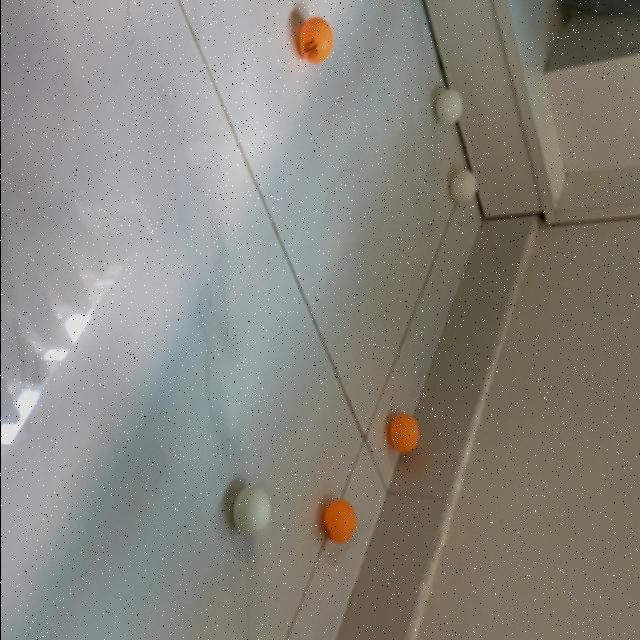ping-pong-ball: (231, 486, 271, 536), (296, 18, 334, 66), (321, 502, 355, 546), (390, 414, 418, 452), (433, 90, 461, 126), (448, 172, 476, 206)
